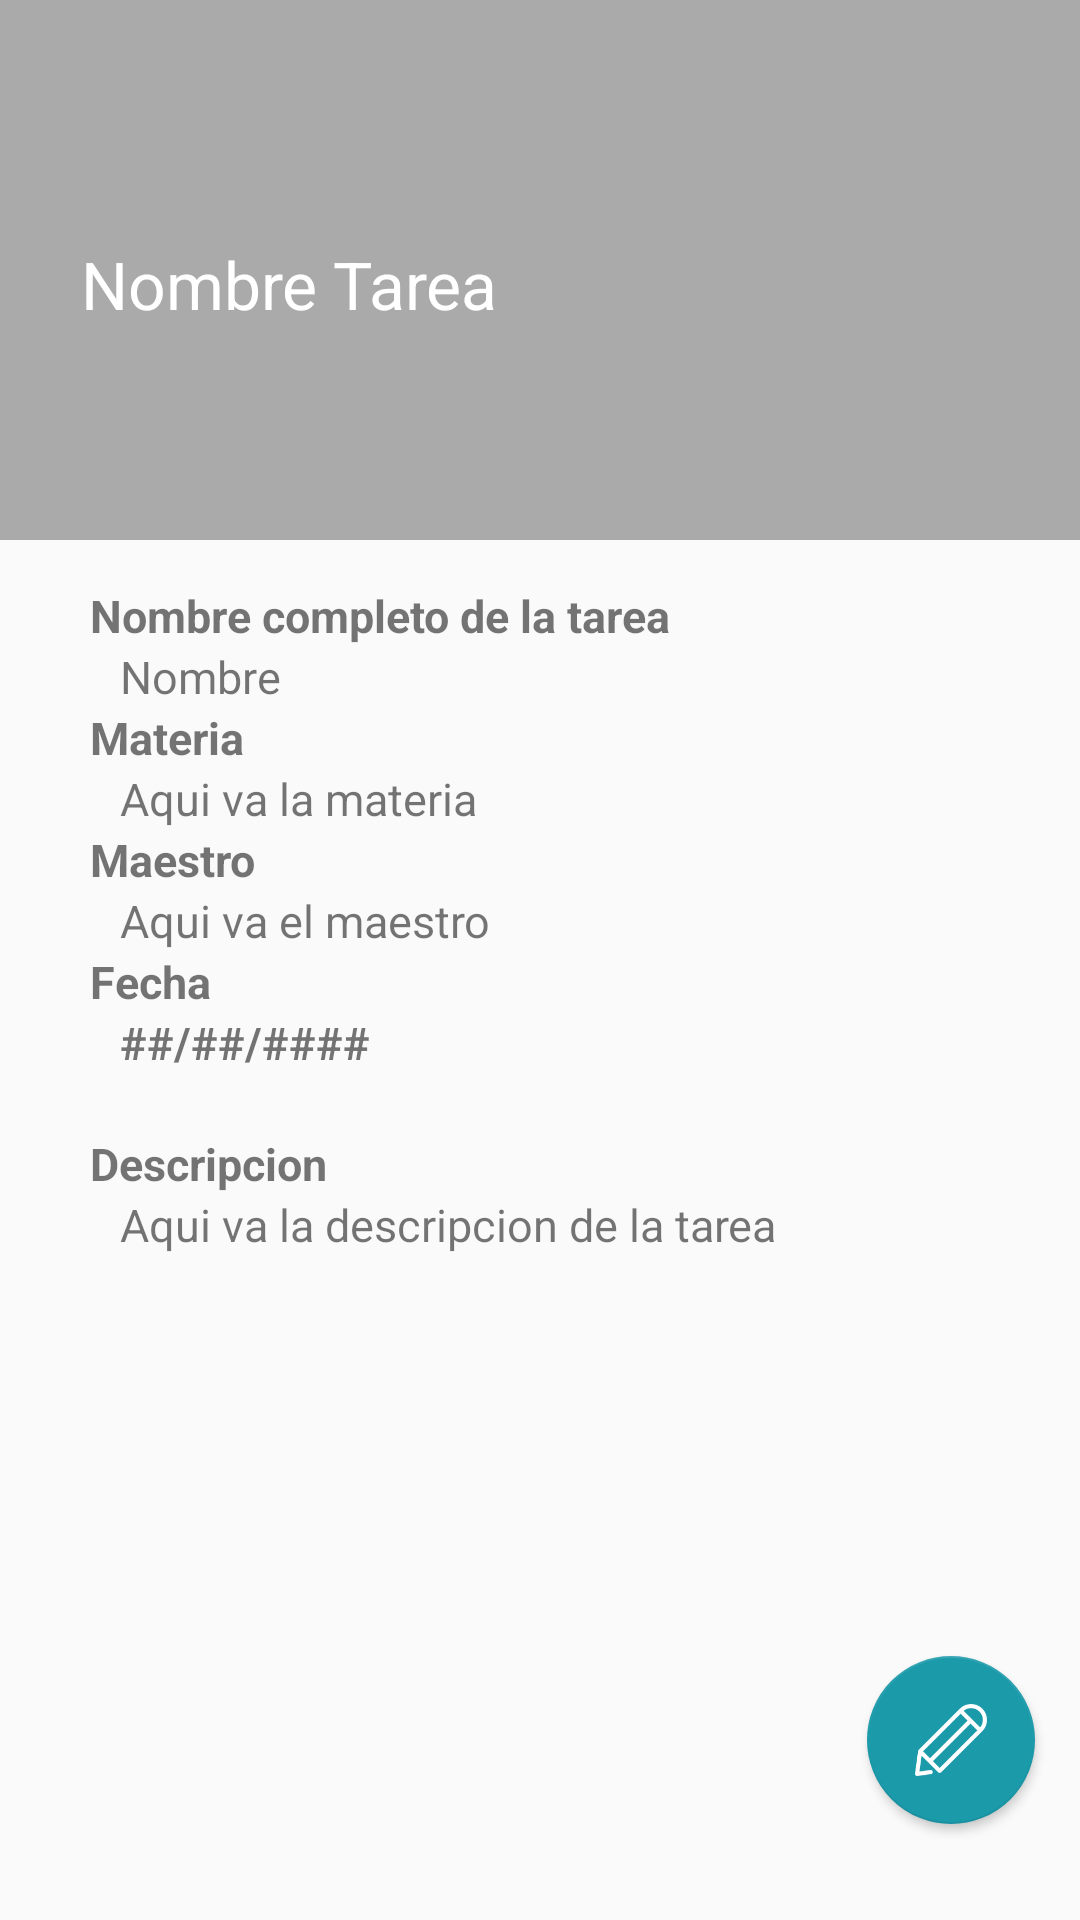

Named icons in this screenshot (1080x1920) and their centers, [x,y]:
edit: [951,1740]
